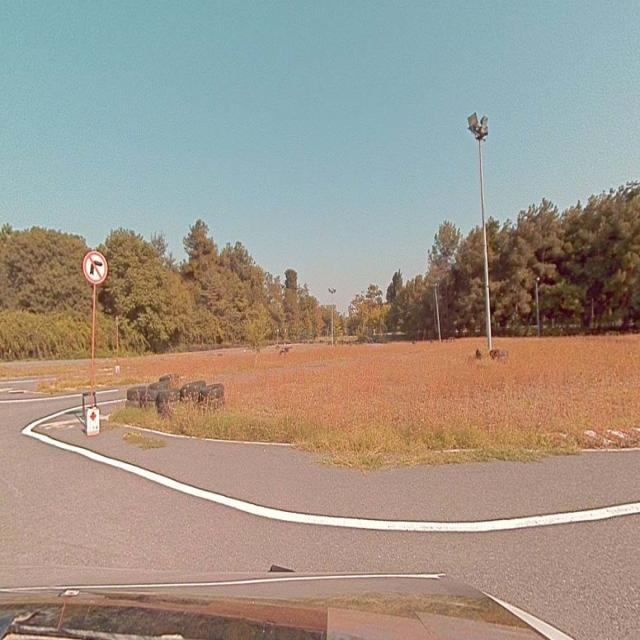sagadonulmez: (83, 250, 108, 284)
